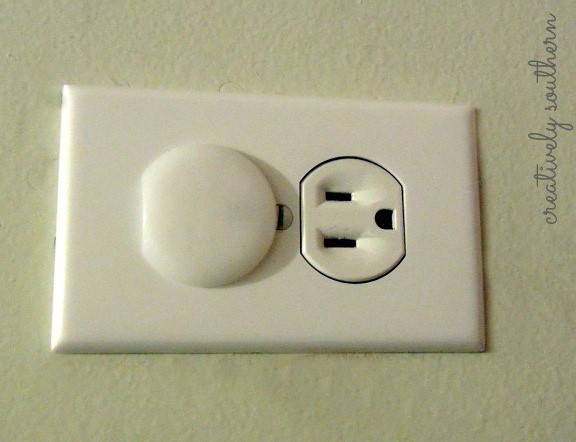outlet: (311, 182, 399, 254)
